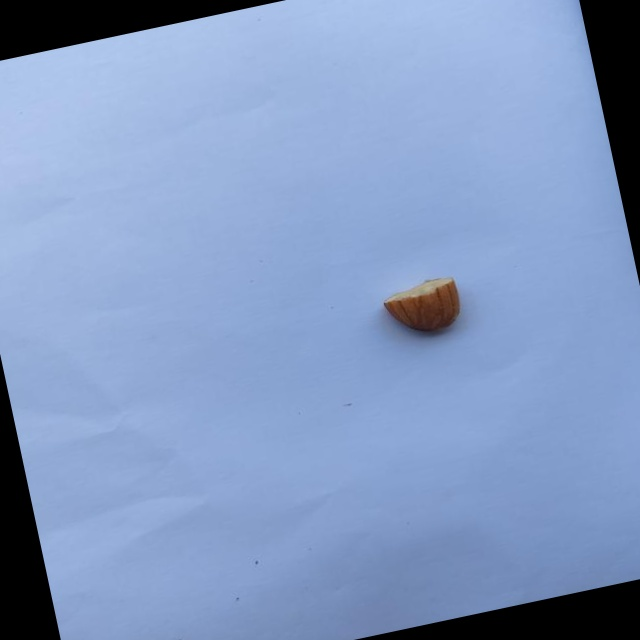grade4: (371, 269, 473, 349)
